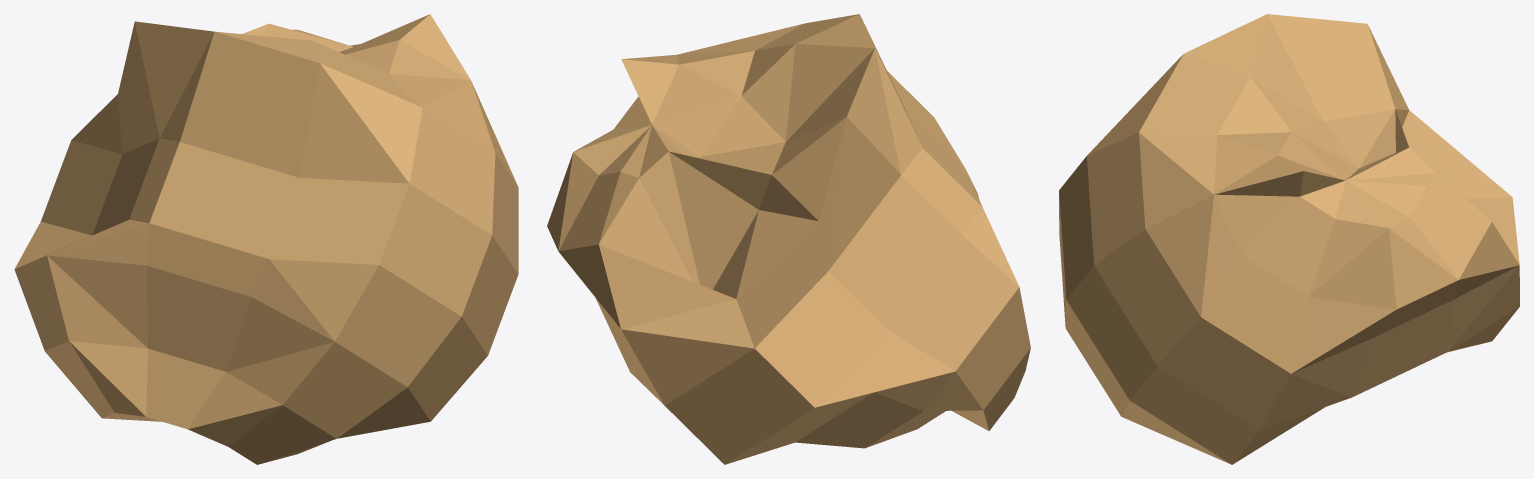
The picture shows the model from 3 angles, left to right: view 1: azimuth 30°, elevation 25°; view 2: azimuth 150°, elevation 25°; view 3: azimuth 270°, elevation 25°; orthographic projection. The views are drawn at different scales.
Visible parts, largest first — view 1: node_MeshObject-882423936-PolyPaper18; view 2: node_MeshObject-882423936-PolyPaper18; view 3: node_MeshObject-882423936-PolyPaper18.
Part boxes in pixels (<box>): node_MeshObject-882423936-PolyPaper18: <box>14,14,518,464</box>; node_MeshObject-882423936-PolyPaper18: <box>547,14,1030,464</box>; node_MeshObject-882423936-PolyPaper18: <box>1059,14,1519,464</box>.
Bounding box in the file's own units: 0.3674 × 0.3034 × 0.3581.
